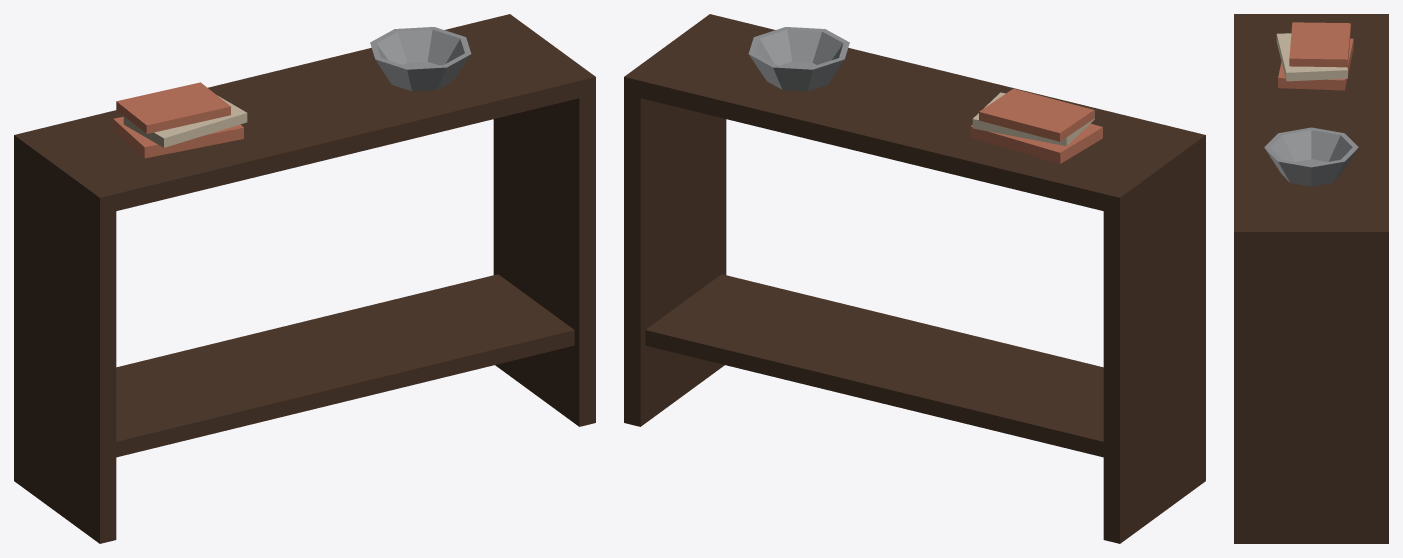
Rendered from FN_Table_Console_Slab.obj.
3 views of the same model, side by side, from view 1: azimuth 30°, elevation 25°; view 2: azimuth 150°, elevation 25°; view 3: azimuth 270°, elevation 25° (orthographic). The views are drawn at different scales.
Visible parts, largest first — view 1: FN_Table_Console_Slab; view 2: FN_Table_Console_Slab; view 3: FN_Table_Console_Slab.
Boxes of the visible parts, x1=… form: FN_Table_Console_Slab: x1=14, y1=14, x2=595, y2=543; FN_Table_Console_Slab: x1=624, y1=14, x2=1205, y2=543; FN_Table_Console_Slab: x1=1234, y1=14, x2=1388, y2=543.
Size of the model in its own units: 1.2 by 0.868 by 0.36.
Materials: 1 (1 with a texture image).
